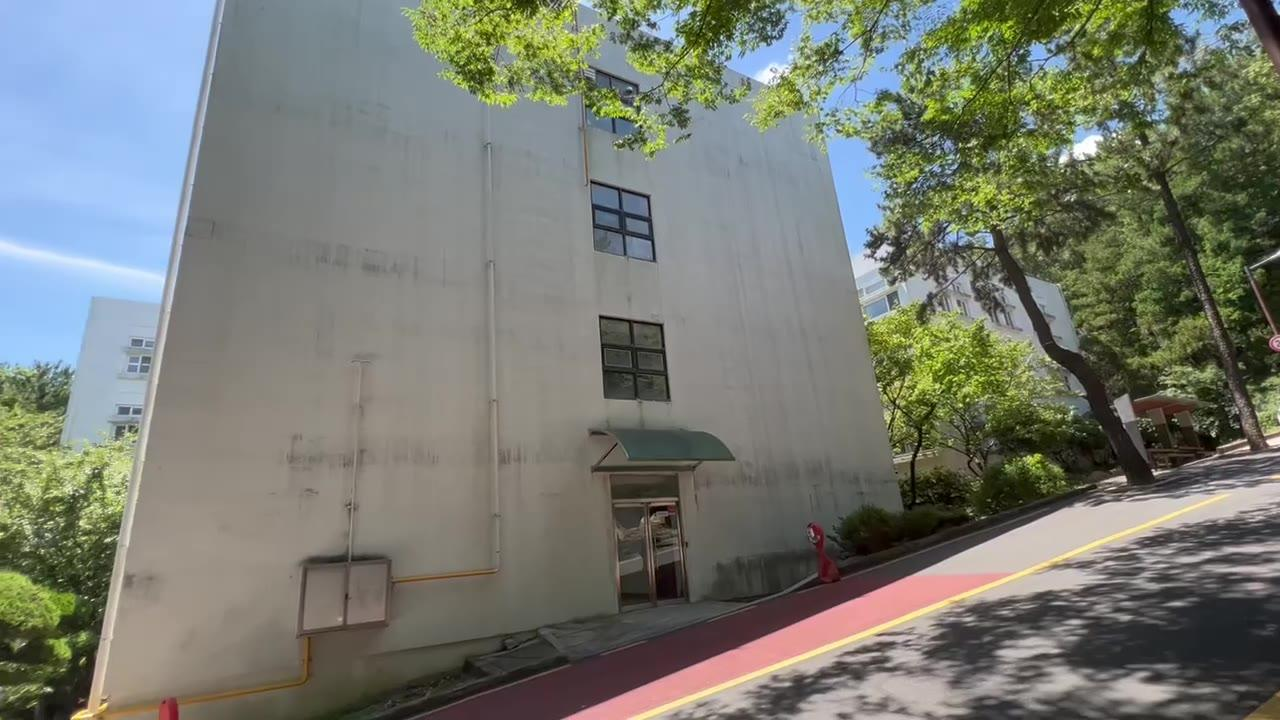building: (109, 142, 878, 631)
